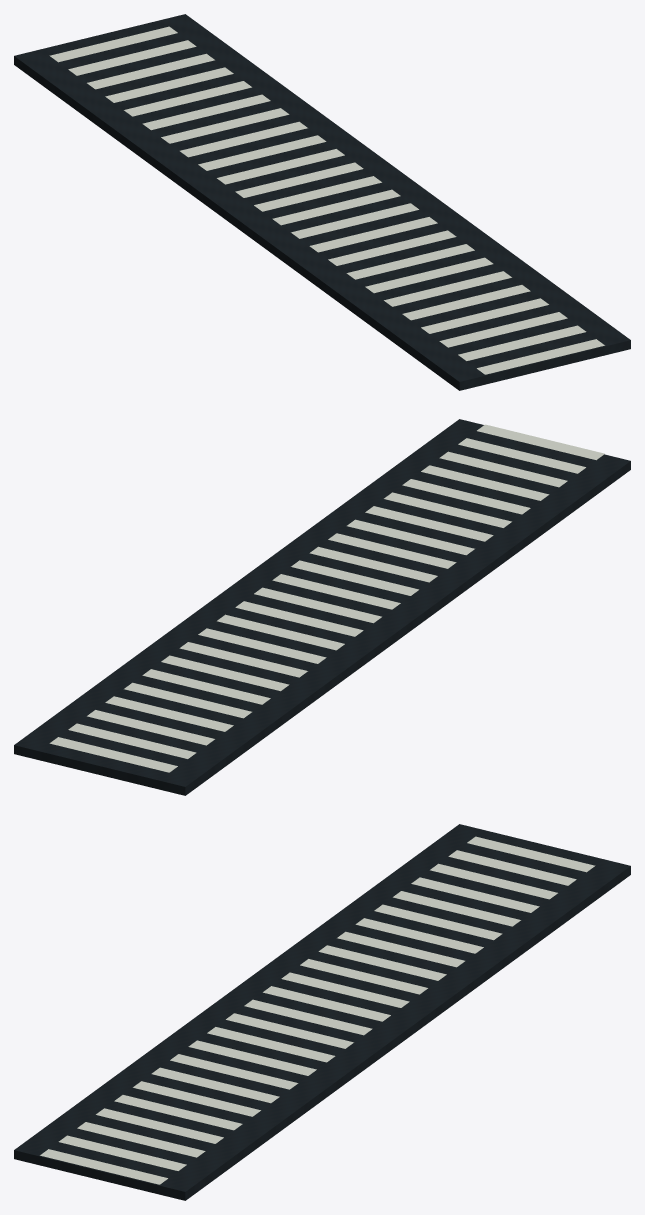
The model's file is Transit_Road_6L_Crosswalk_4m.glb.
3 renders of one model, top to bottom at view 1: azimuth 30°, elevation 25°; view 2: azimuth 150°, elevation 25°; view 3: azimuth 330°, elevation 25°, orthographic.
Visible parts, largest first — view 1: Transit_Road_6L_Crosswalk_4m_Surface, Transit_Road_6L_Crosswalk_4m_MarkCrosswalk; view 2: Transit_Road_6L_Crosswalk_4m_Surface, Transit_Road_6L_Crosswalk_4m_MarkCrosswalk; view 3: Transit_Road_6L_Crosswalk_4m_Surface, Transit_Road_6L_Crosswalk_4m_MarkCrosswalk.
Boxes of the visible parts, box(x1,y1,x2,y2) form: Transit_Road_6L_Crosswalk_4m_Surface: box(14, 14, 630, 390); Transit_Road_6L_Crosswalk_4m_MarkCrosswalk: box(49, 26, 604, 374); Transit_Road_6L_Crosswalk_4m_Surface: box(14, 419, 630, 795); Transit_Road_6L_Crosswalk_4m_MarkCrosswalk: box(49, 424, 604, 772); Transit_Road_6L_Crosswalk_4m_Surface: box(14, 824, 630, 1200); Transit_Road_6L_Crosswalk_4m_MarkCrosswalk: box(40, 836, 595, 1184).
Bounding box in the file's own units: 4 × 0.219 × 18.
Materials: 2 (1 with a texture image).
